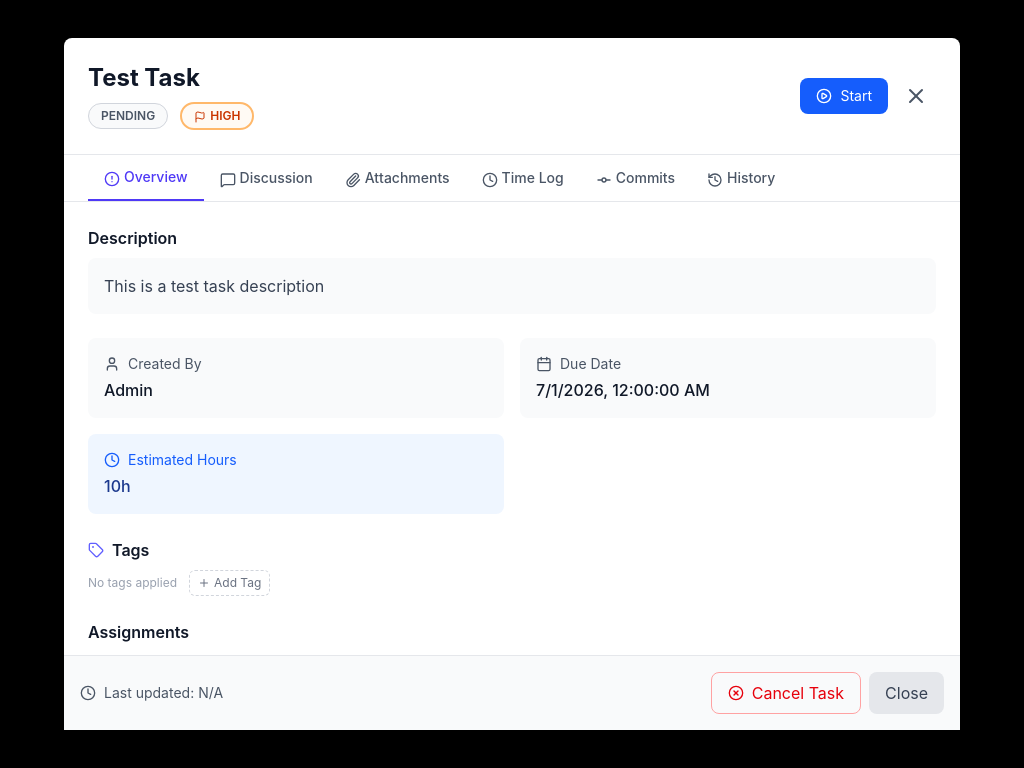
Test: TaskDetailsModal extended coverage › handles file upload in Attachments tab
Click the button "Attachments".
click(397, 178)  # box [329, 155, 466, 201]
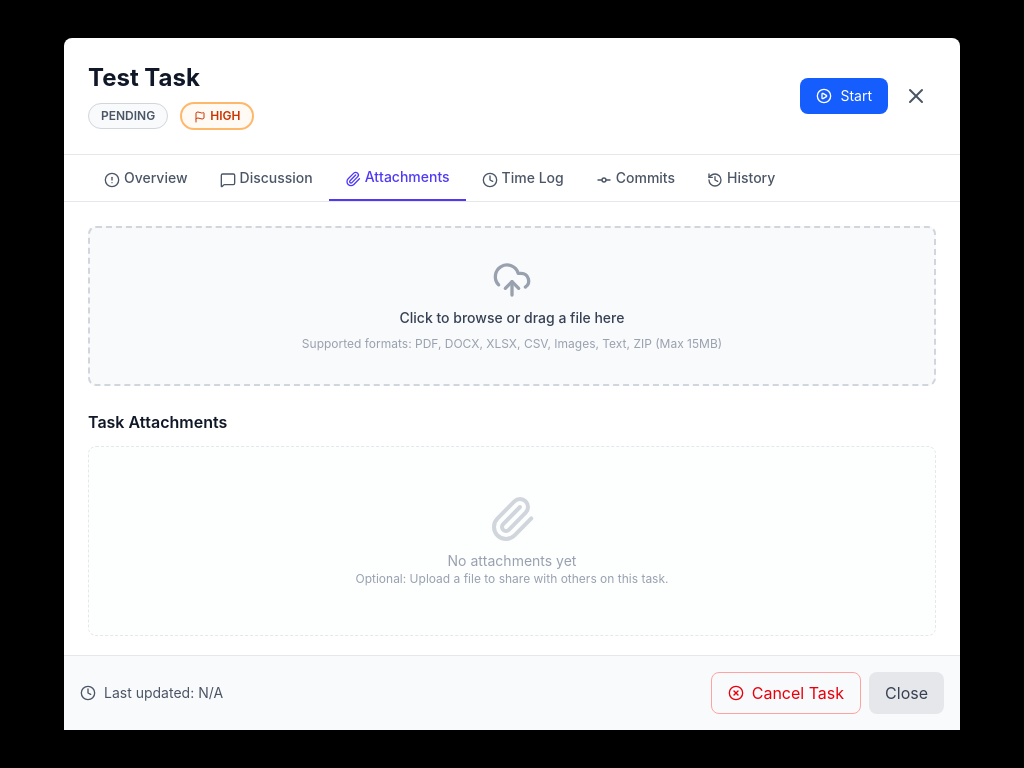
Result: the text "Optional: Upload a file to share with others on this task." is shown at [356, 571, 668, 586]
